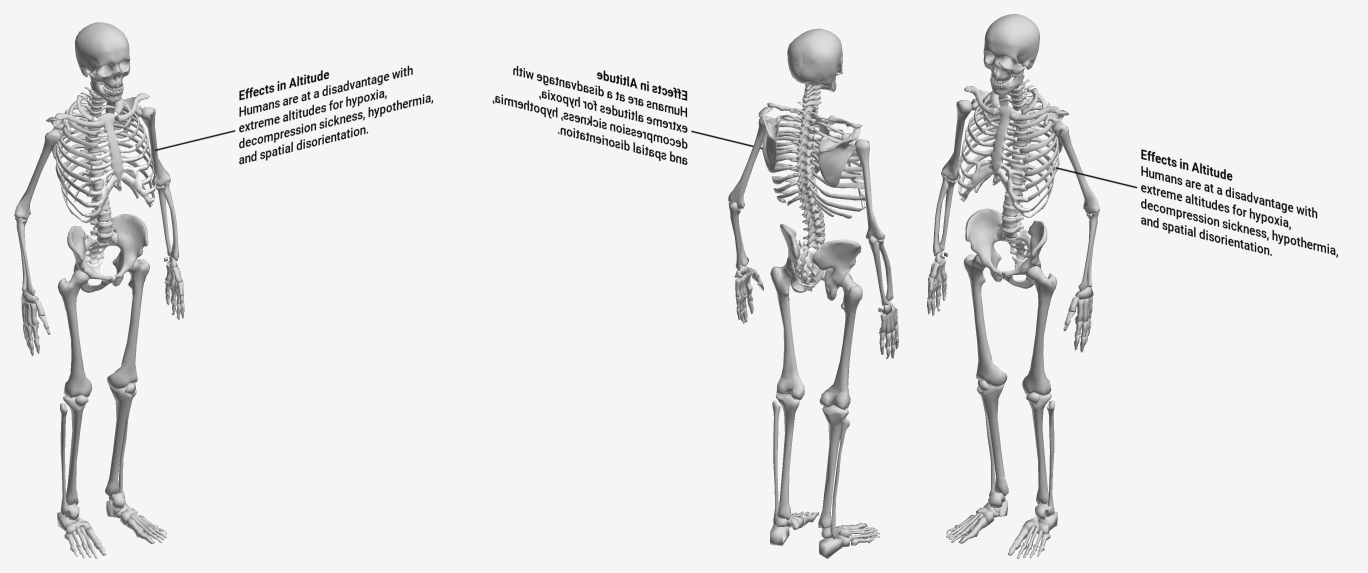
The model's file is skeleton-annotation.glb.
The picture shows the model from 3 angles, left to right: view 1: azimuth 30°, elevation 25°; view 2: azimuth 150°, elevation 25°; view 3: azimuth 330°, elevation 25°; orthographic projection.
Parts seen in each view (by area): view 1: Skeletons; view 2: Skeletons; view 3: Skeletons.
Boxes of the visible parts, left/top/right/bottom form: Skeletons: left=14, top=22, right=432, bottom=558; Skeletons: left=492, top=28, right=898, bottom=558; Skeletons: left=927, top=14, right=1337, bottom=558.
Bounding box in the file's own units: 3.04 × 3.5 × 0.5628.
4 materials, 1 textured.
